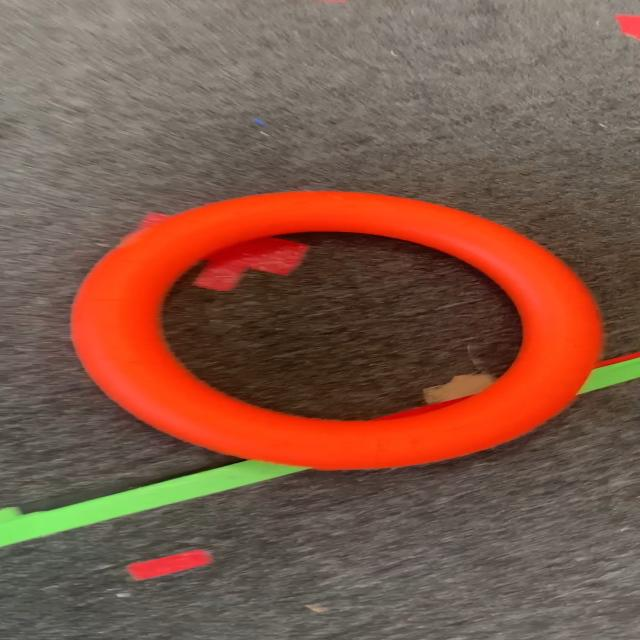notes: (75, 189, 606, 469)
